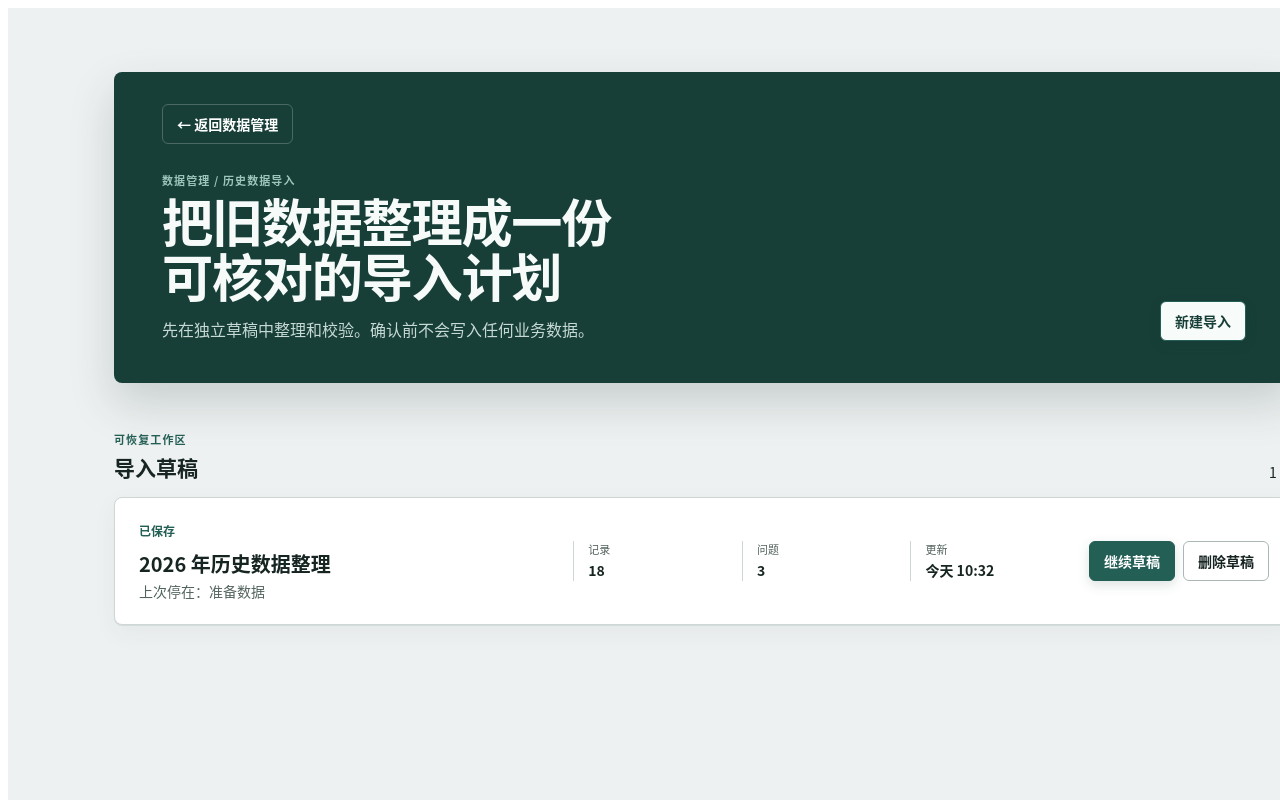
Test: 历史导入草稿首页与全窗口结构 › 保存失败时保留全窗口草稿并阻止误退出
Click the button "继续草稿".
click(1132, 561)  # box [1089,541,1175,581]
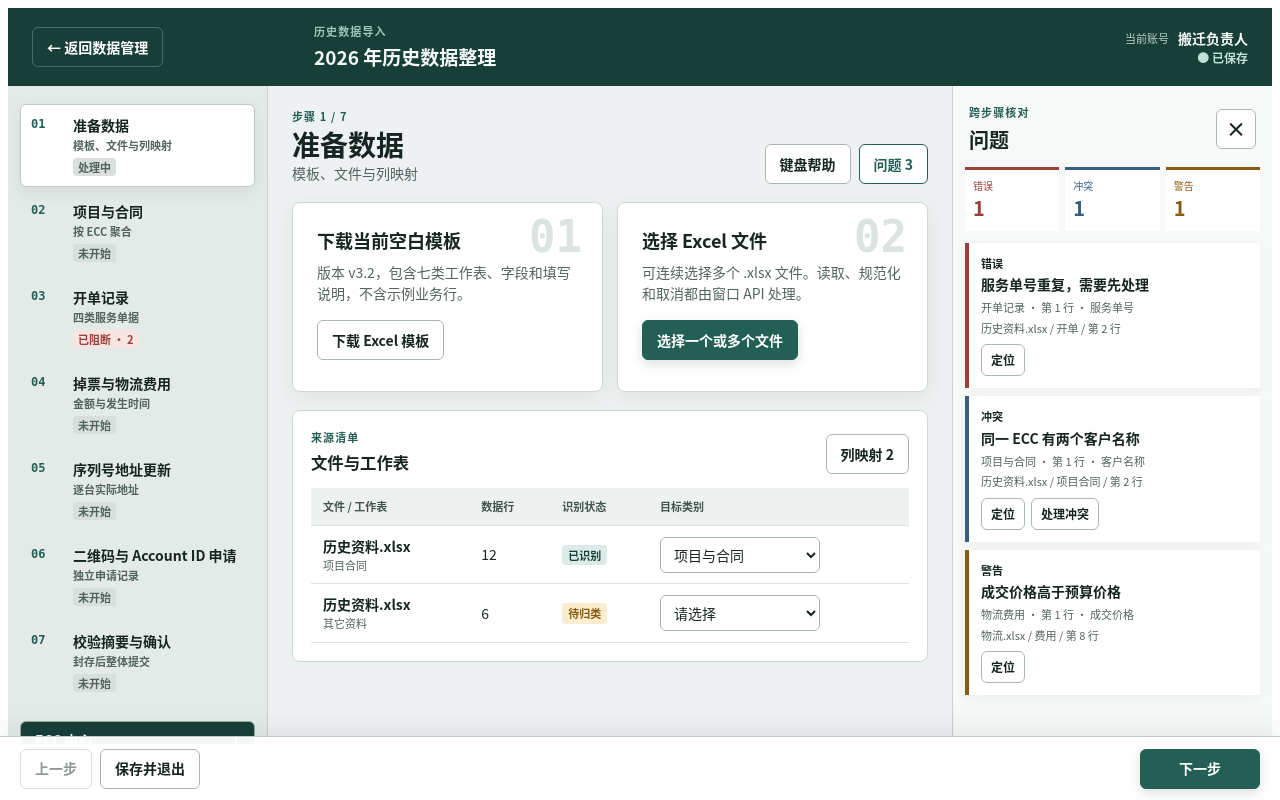
Click the button "保存并退出".
click(150, 768)  # box [100,748,200,788]
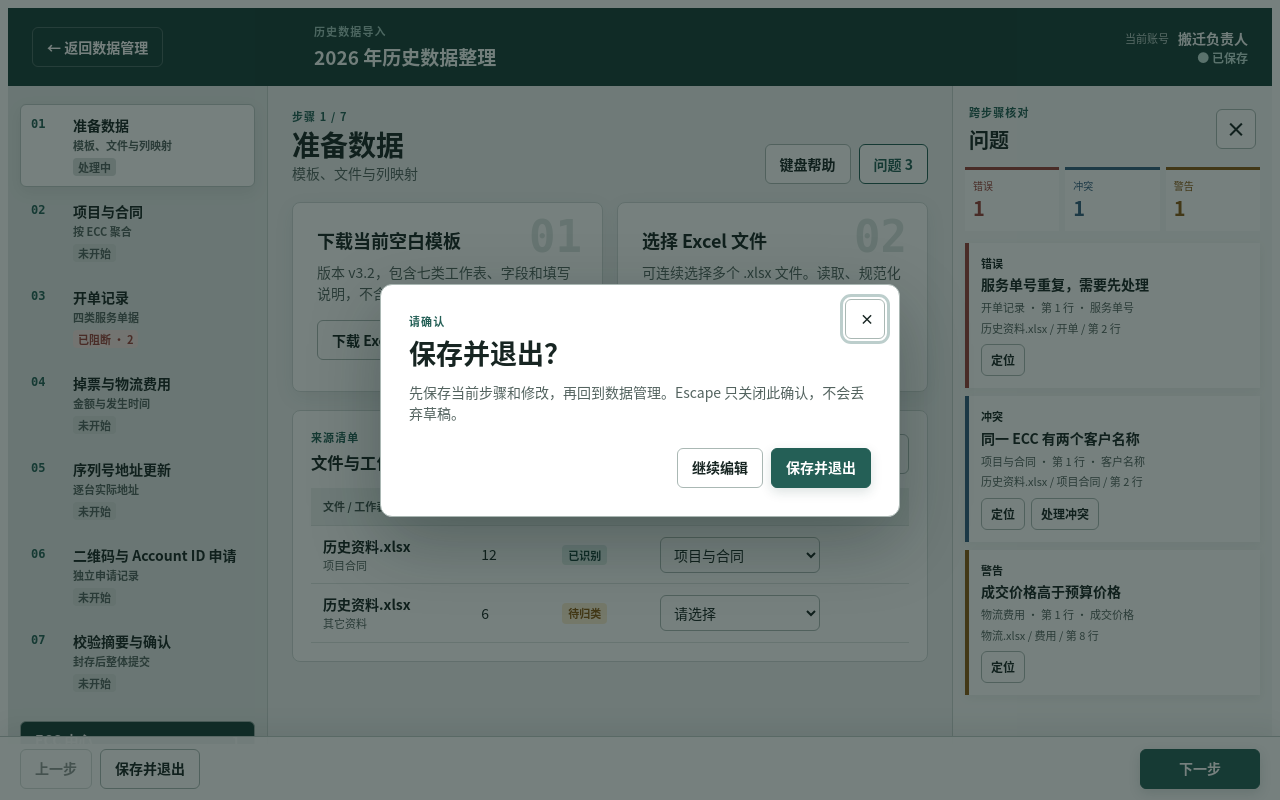
Click the button "保存并退出".
click(821, 468)  # box [771,448,871,488]
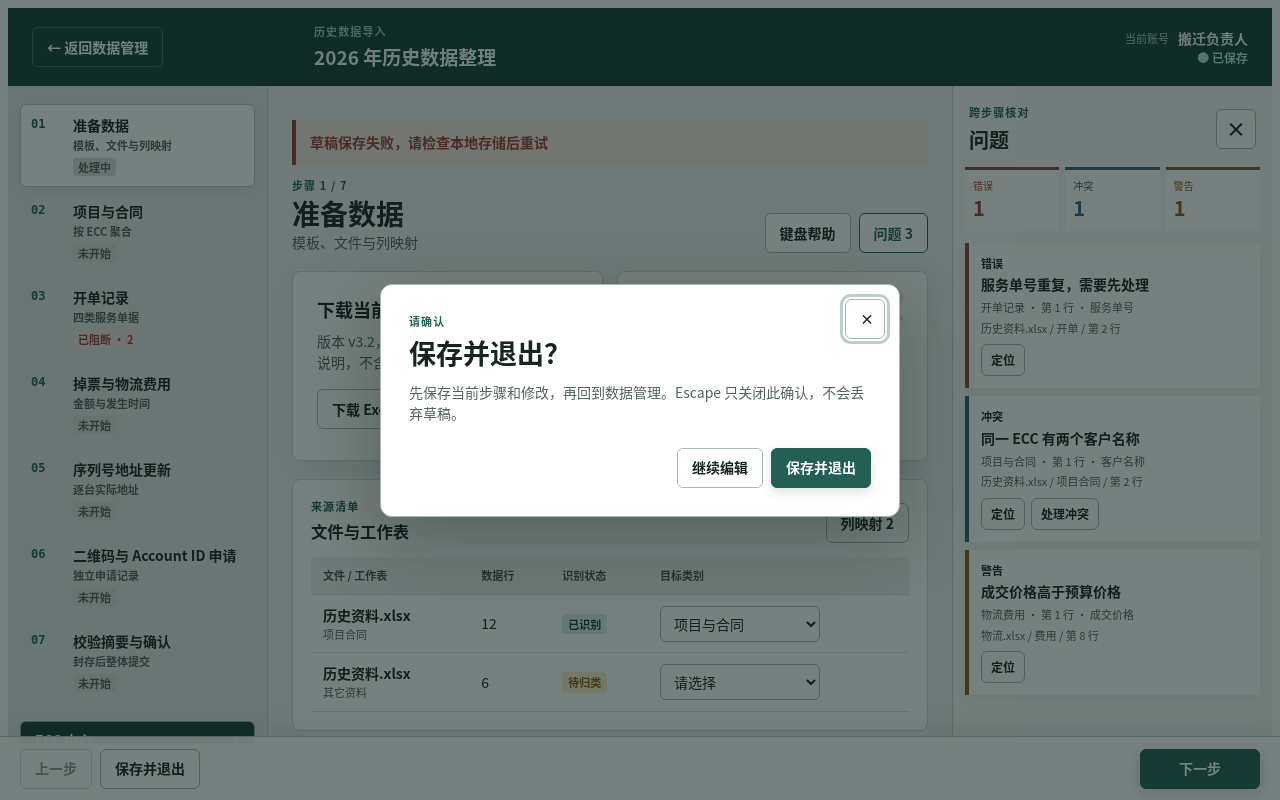
Now the dialog "保存并退出？" is shown, box [380,284,900,516]
Now the message shows "草稿保存失败", box [310,132,548,152]
